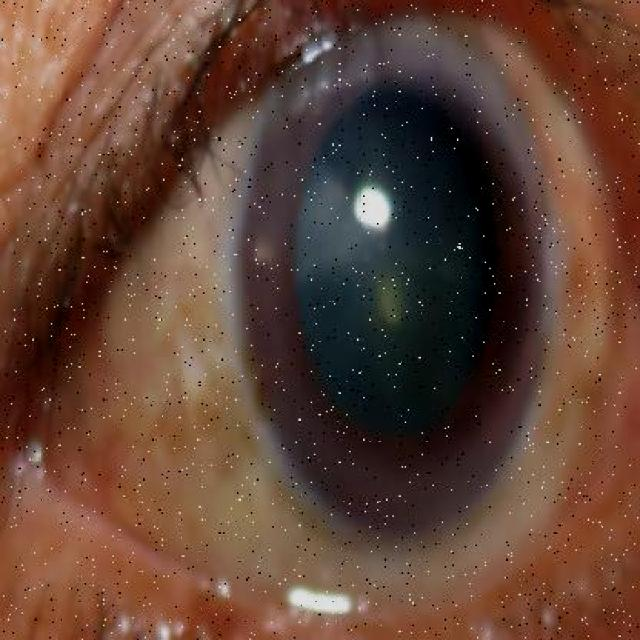Cataract: (195, 25, 592, 563)
